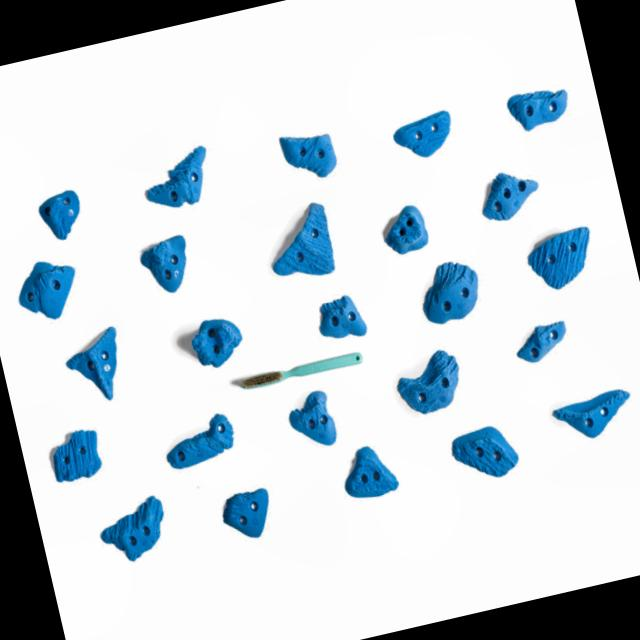Hold: (133, 135, 224, 222), (260, 198, 345, 286), (91, 491, 176, 577), (56, 322, 135, 409), (441, 414, 526, 492), (390, 342, 472, 418), (414, 250, 490, 325), (10, 253, 90, 323), (550, 382, 636, 446), (521, 223, 601, 290), (472, 160, 550, 228), (329, 438, 407, 506), (160, 412, 240, 473), (275, 120, 339, 187), (284, 387, 346, 456), (505, 78, 577, 137), (306, 287, 374, 347), (32, 178, 92, 244), (184, 310, 249, 370), (388, 109, 458, 164), (45, 422, 107, 484), (135, 237, 196, 300), (377, 197, 434, 260), (512, 313, 570, 364), (218, 488, 277, 538)
